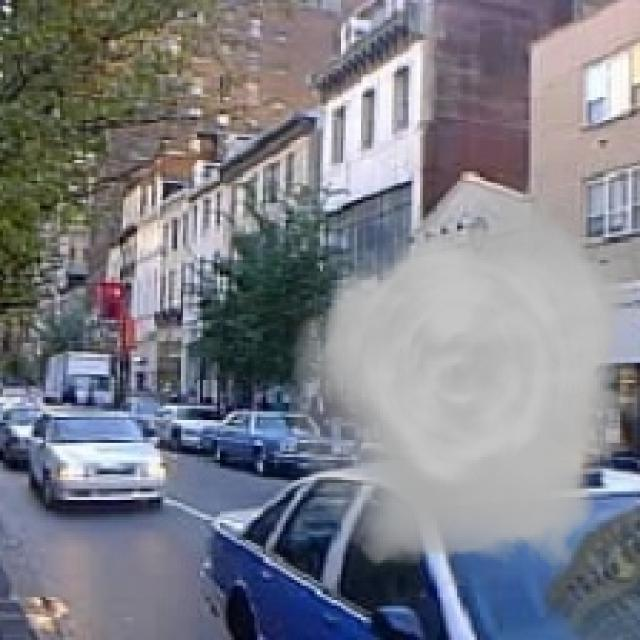smoke: (289, 174, 637, 589)
